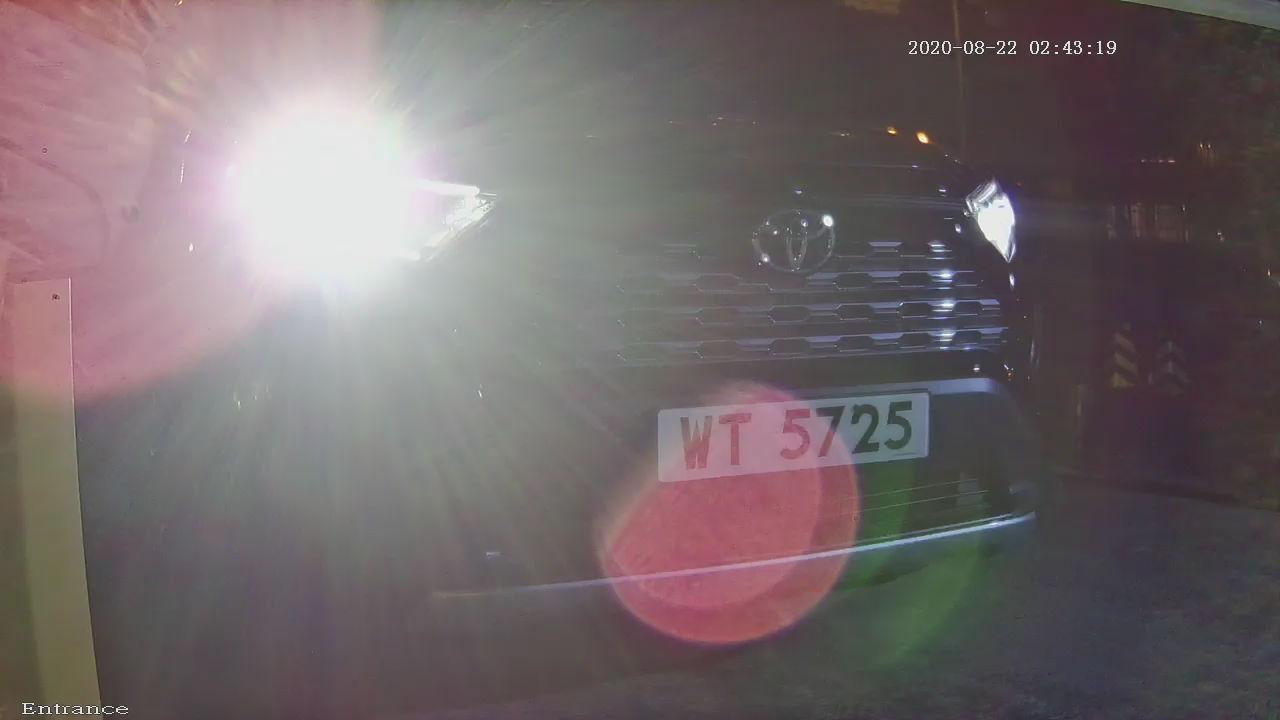Car: (6, 23, 1223, 692)
License Plate: (631, 363, 955, 519)
